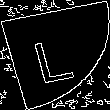L_N: (30, 26, 80, 84)
